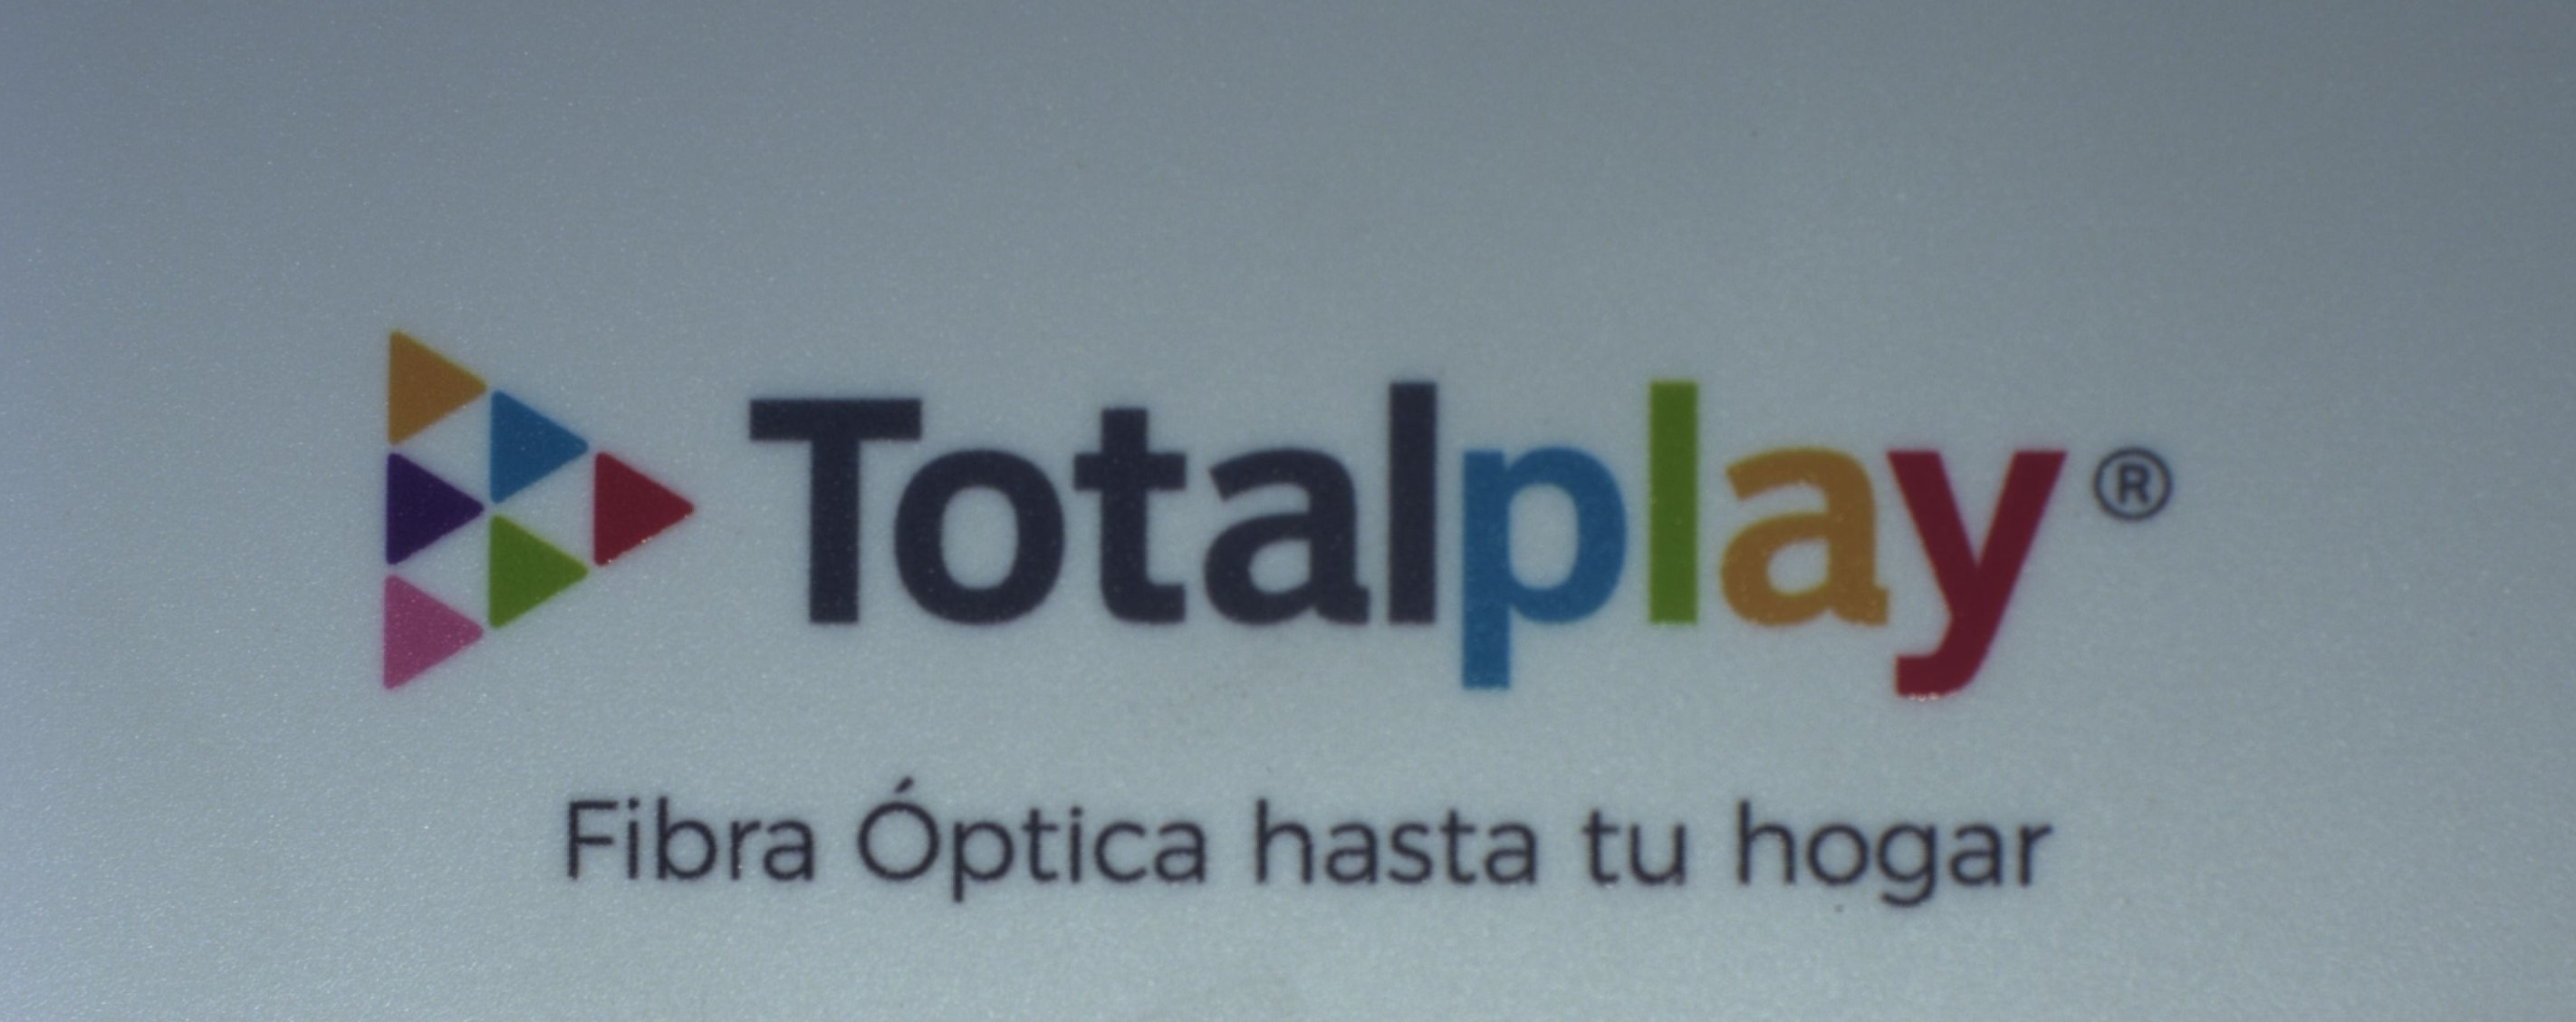BP_TotalPlay: (350, 311, 2175, 912)
